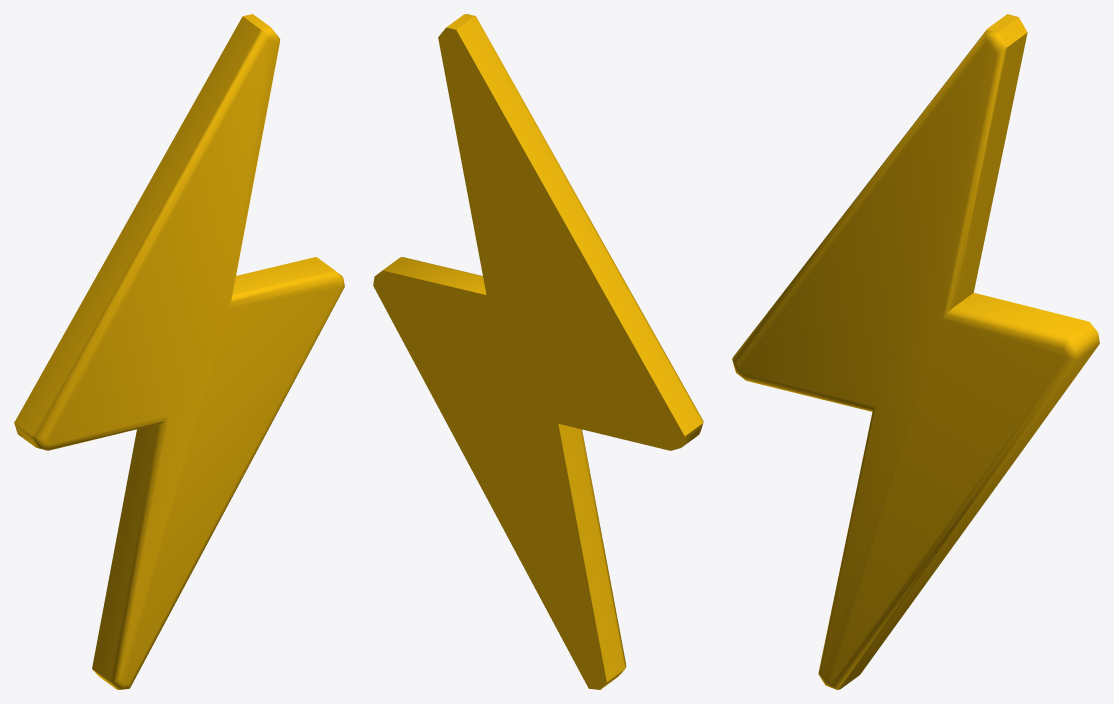
The model's file is Lighting_2.fbx.
3 renders of one model, left to right at view 1: azimuth 30°, elevation 25°; view 2: azimuth 150°, elevation 25°; view 3: azimuth 330°, elevation 25°, orthographic. The views are drawn at different scales.
Parts seen in each view (by area): view 1: Lighting_2; view 2: Lighting_2; view 3: Lighting_2.
Part boxes in pixels (x1,y1,x2,y2): Lighting_2: (14,14,344,689); Lighting_2: (373,14,703,689); Lighting_2: (732,14,1099,689).
Size of the model in its own units: 0.1462 by 0.2808 by 0.0181.
